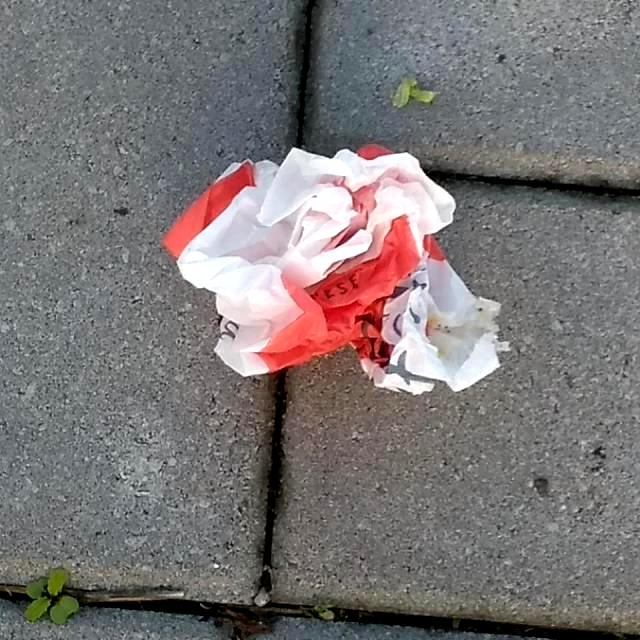Paper: (158, 138, 504, 398)
